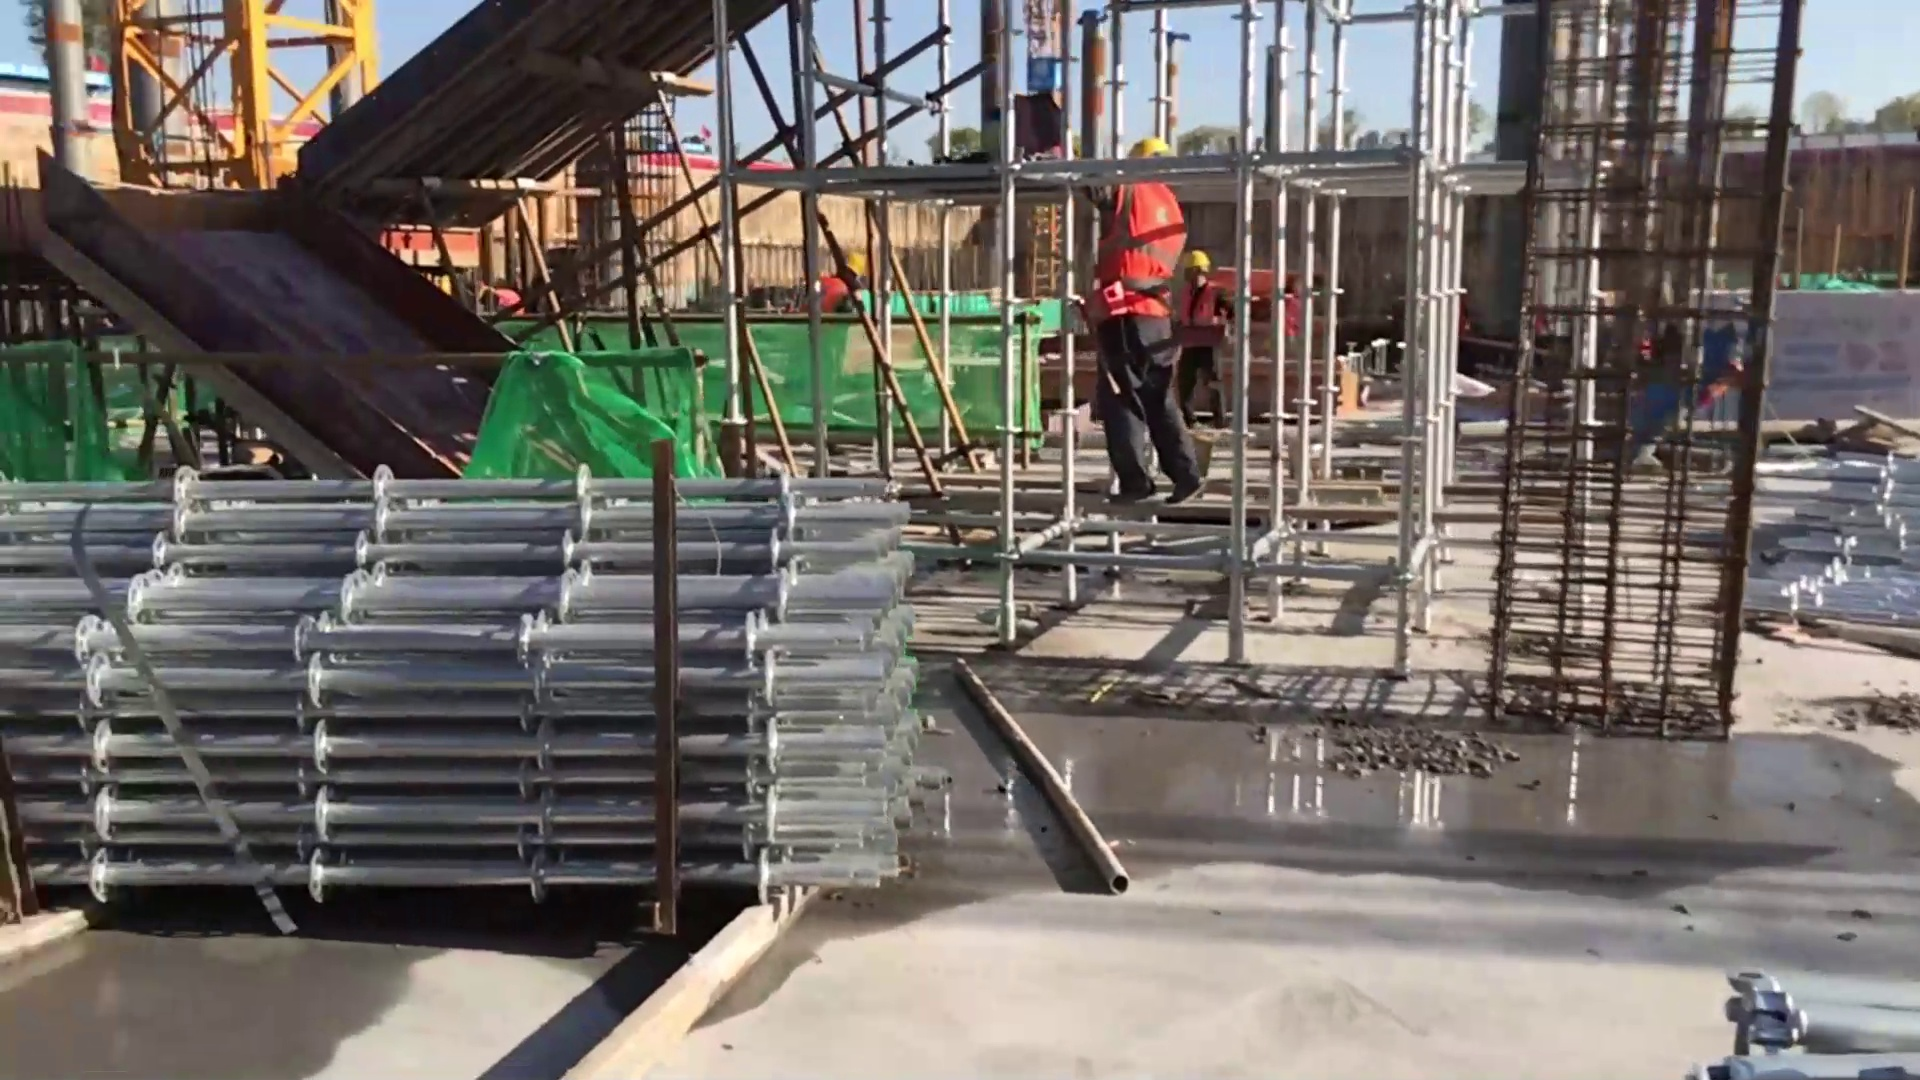person: (1077, 137, 1204, 506), (1182, 250, 1231, 437), (805, 245, 873, 324)
scaffold: (1, 460, 956, 906), (1788, 464, 1920, 613)
vest: (1096, 177, 1177, 323)
